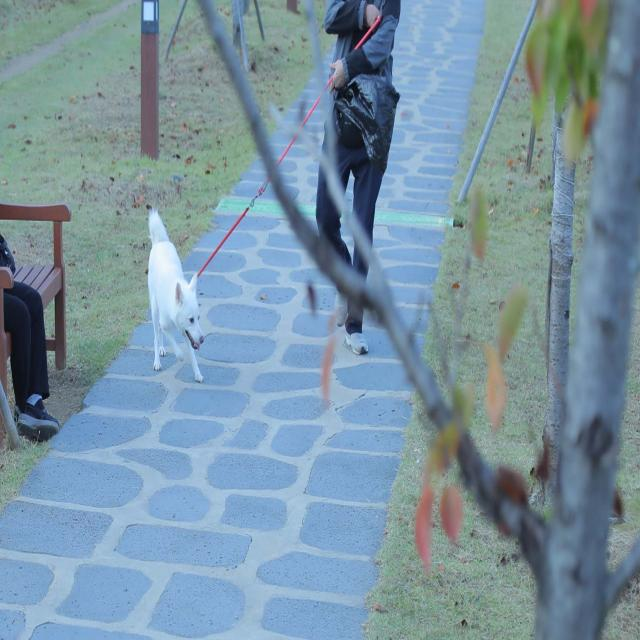Leashed_Dog: (148, 15, 342, 383)
